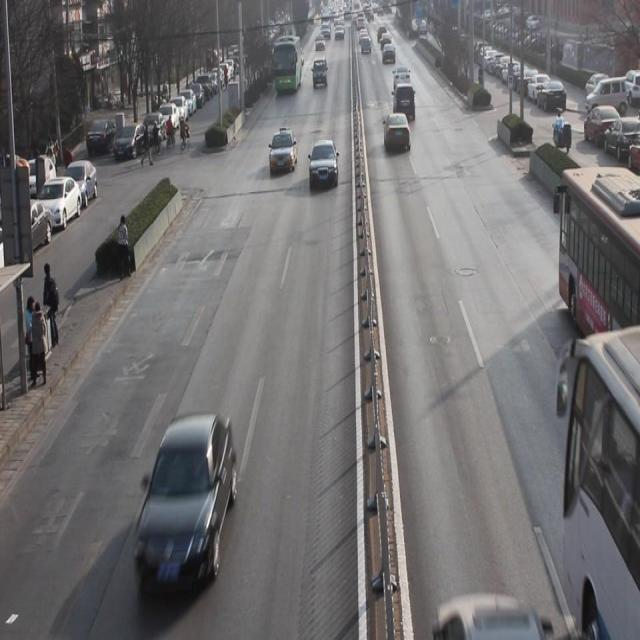car: (141, 412, 238, 581), (308, 141, 341, 192), (268, 127, 298, 174), (382, 111, 411, 154), (391, 84, 417, 122), (394, 67, 412, 89)
truck: (312, 56, 329, 91)
van: (564, 326, 640, 640), (559, 166, 640, 414), (272, 35, 301, 95)
